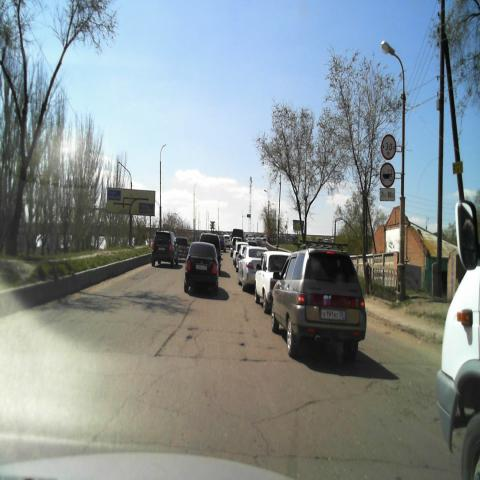3_14: (380, 134, 396, 160)
3_6: (379, 162, 396, 187)
8_5_4: (379, 188, 395, 202)
